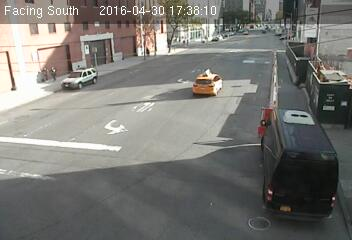neg: (256, 139, 295, 191), (198, 66, 218, 93), (213, 21, 229, 42), (150, 22, 164, 41), (259, 24, 271, 40), (237, 25, 248, 39), (84, 65, 92, 76), (176, 27, 184, 37)
pos: (49, 66, 62, 82), (36, 65, 48, 82), (144, 45, 154, 58)
